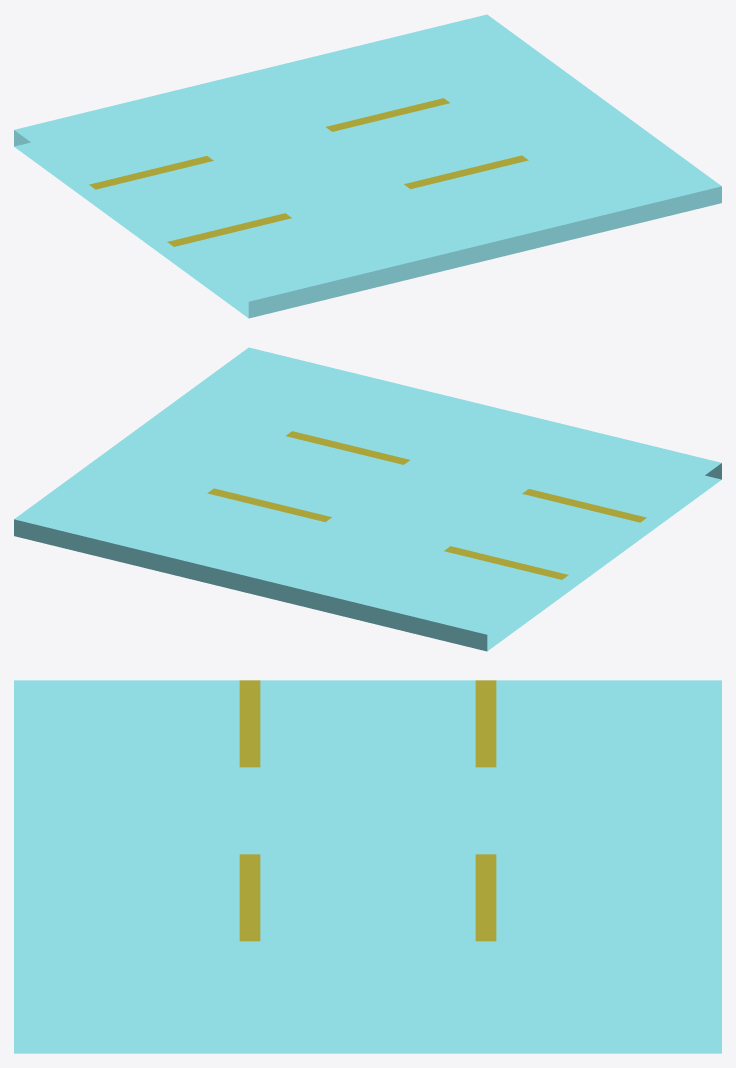
File: road_straight.fbx
The picture shows the model from 3 angles, top to bottom: view 1: azimuth 30°, elevation 25°; view 2: azimuth 150°, elevation 25°; view 3: azimuth 270°, elevation 25°; orthographic projection. The views are drawn at different scales.
Parts seen in each view (by area): view 1: road.004; view 2: road.004; view 3: road.004.
Boxes of the visible parts, x1,y1,x2,y2 form: road.004: (14,14,721,318); road.004: (14,347,721,651); road.004: (14,680,721,1053).
Size of the model in its own units: 400 by 13.55 by 344.
